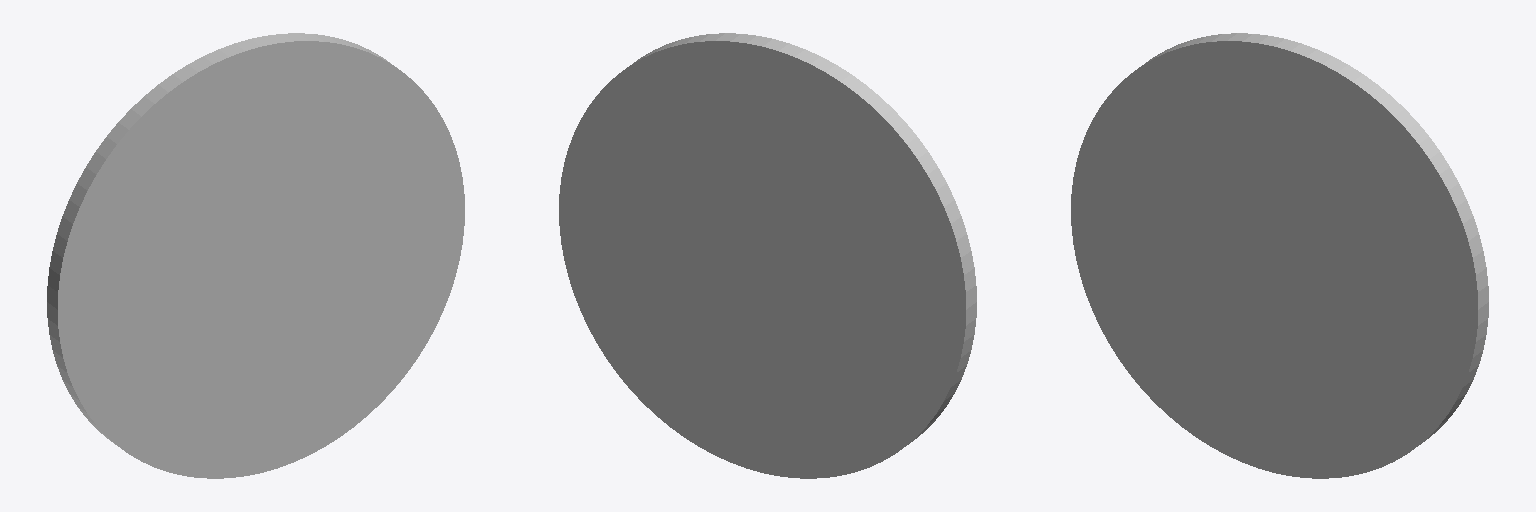
Rendered from Face_Center.obj.
The picture shows the model from 3 angles: view 1: azimuth 30°, elevation 25°; view 2: azimuth 150°, elevation 25°; view 3: azimuth 330°, elevation 25°; orthographic projection.
Parts seen in each view (by area): view 1: Plane; view 2: Plane; view 3: Plane.
Part boxes in pixels (x1,y1,x2,y2): Plane: (47, 33, 464, 478); Plane: (559, 33, 976, 478); Plane: (1071, 33, 1488, 478).
Size of the model in its own units: 0.44 by 0.44 by 0.02.